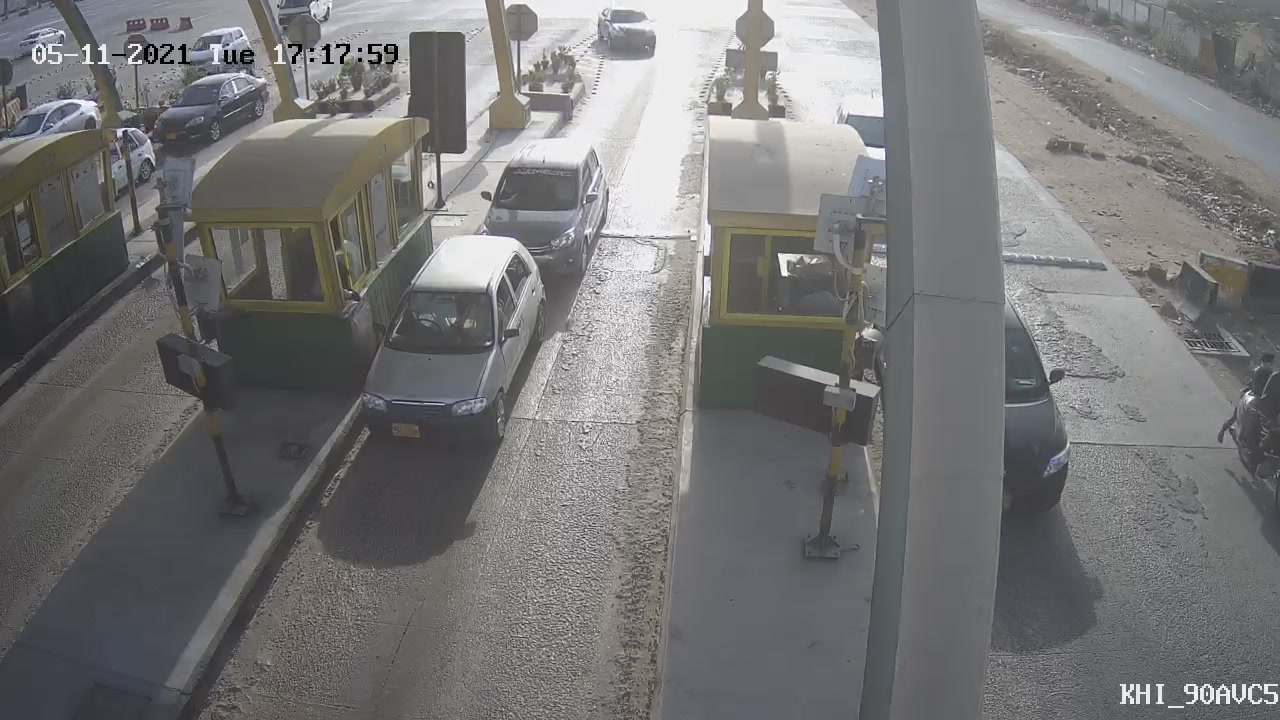F1: (335, 222, 568, 472), (453, 125, 626, 300)
